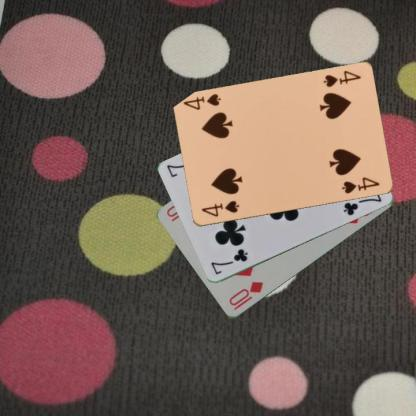10d: (226, 279, 265, 311)
4s: (198, 198, 240, 219), (320, 68, 362, 89)
7c: (208, 246, 250, 276)
